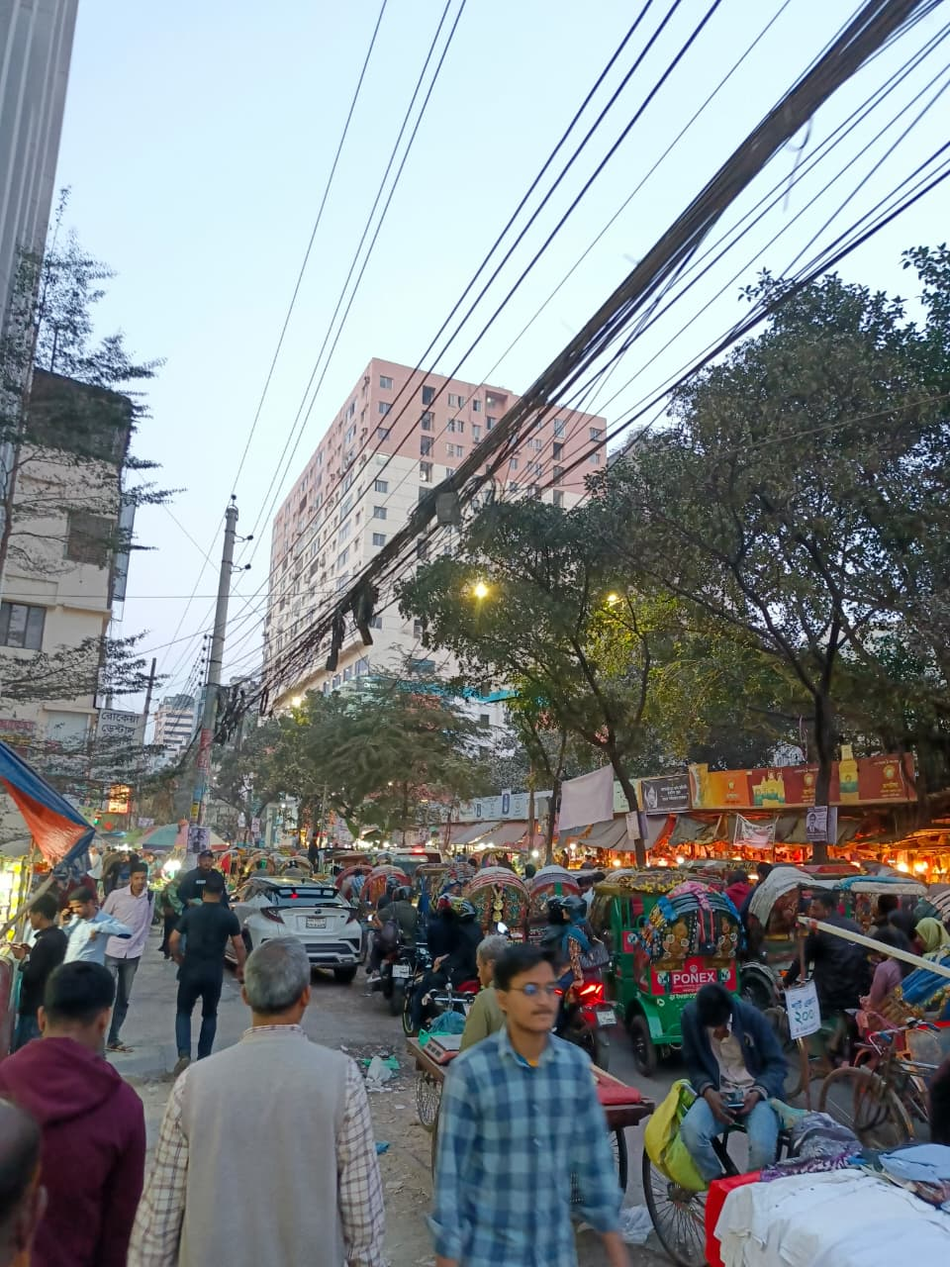auto-ricksaw: (798, 908, 950, 1152), (584, 885, 752, 1060), (432, 856, 543, 961)
private car: (224, 869, 374, 994)
